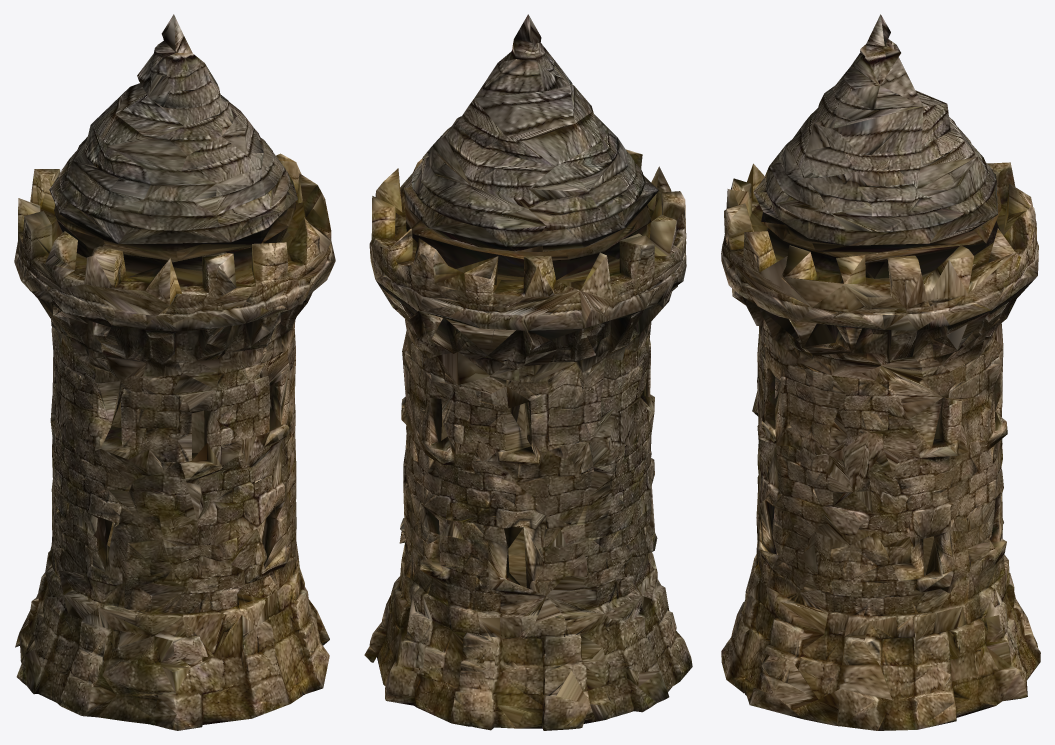
3 renders of one model, left to right at view 1: azimuth 30°, elevation 25°; view 2: azimuth 150°, elevation 25°; view 3: azimuth 270°, elevation 25°, orthographic.
Visible parts, largest first — view 1: tripo_node_7e059aba-8ee6-4827-9550-0036fa14f57b; view 2: tripo_node_7e059aba-8ee6-4827-9550-0036fa14f57b; view 3: tripo_node_7e059aba-8ee6-4827-9550-0036fa14f57b.
Part boxes in pixels (box(x1,y1,x2,y2)): tripo_node_7e059aba-8ee6-4827-9550-0036fa14f57b: box(14, 14, 335, 730); tripo_node_7e059aba-8ee6-4827-9550-0036fa14f57b: box(364, 14, 692, 730); tripo_node_7e059aba-8ee6-4827-9550-0036fa14f57b: box(721, 14, 1040, 730).
Bounding box in the file's own units: 0.4241 × 0.9384 × 0.4176.
1 material, 1 textured.
